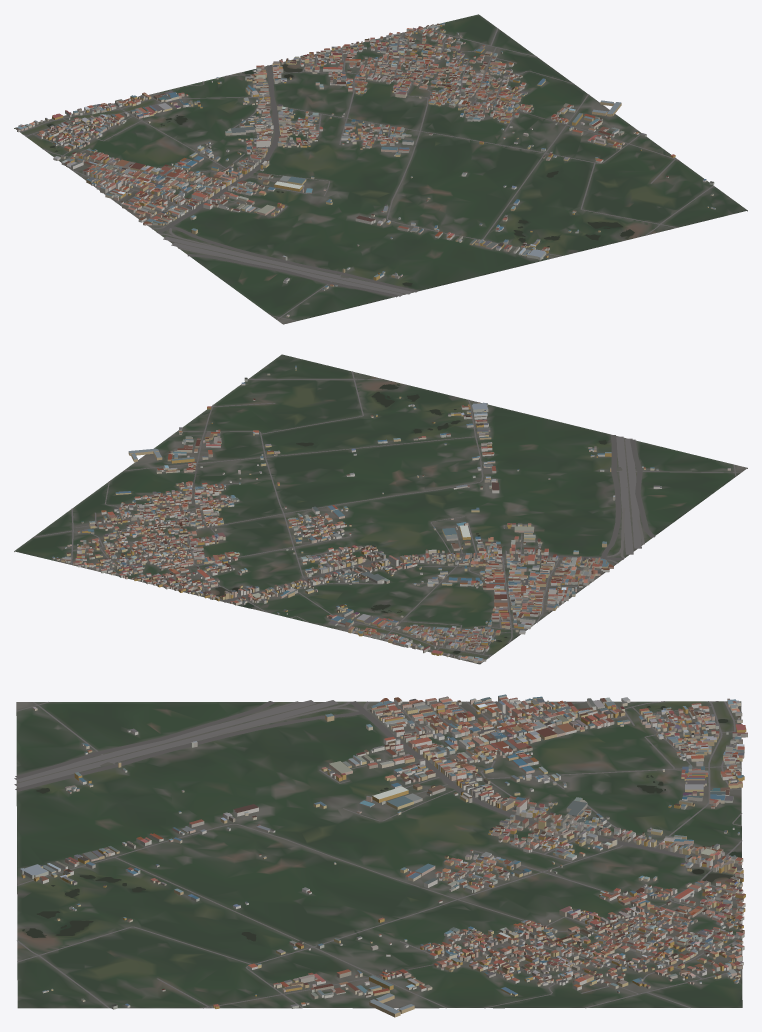
The picture shows the model from 3 angles, top to bottom: view 1: azimuth 30°, elevation 25°; view 2: azimuth 150°, elevation 25°; view 3: azimuth 270°, elevation 25°; orthographic projection. The views are drawn at different scales.
Visible parts, largest first — view 1: ground, buildings, roads, water; view 2: ground, buildings, roads, water; view 3: ground, buildings, roads, water.
Part boxes in pixels (box(x1,y1,x2,y2)): ground: box(14, 14, 747, 324); buildings: box(16, 23, 715, 317); roads: box(20, 28, 713, 321); water: box(47, 64, 634, 286); ground: box(14, 354, 747, 664); buildings: box(52, 365, 730, 662); roads: box(33, 371, 741, 662); water: box(213, 384, 606, 653); ground: box(16, 701, 742, 1008); buildings: box(20, 694, 747, 1017); roads: box(14, 700, 742, 1008); water: box(22, 706, 741, 941).
Bounding box in the file's own units: 1454 × 22.95 × 1419.
